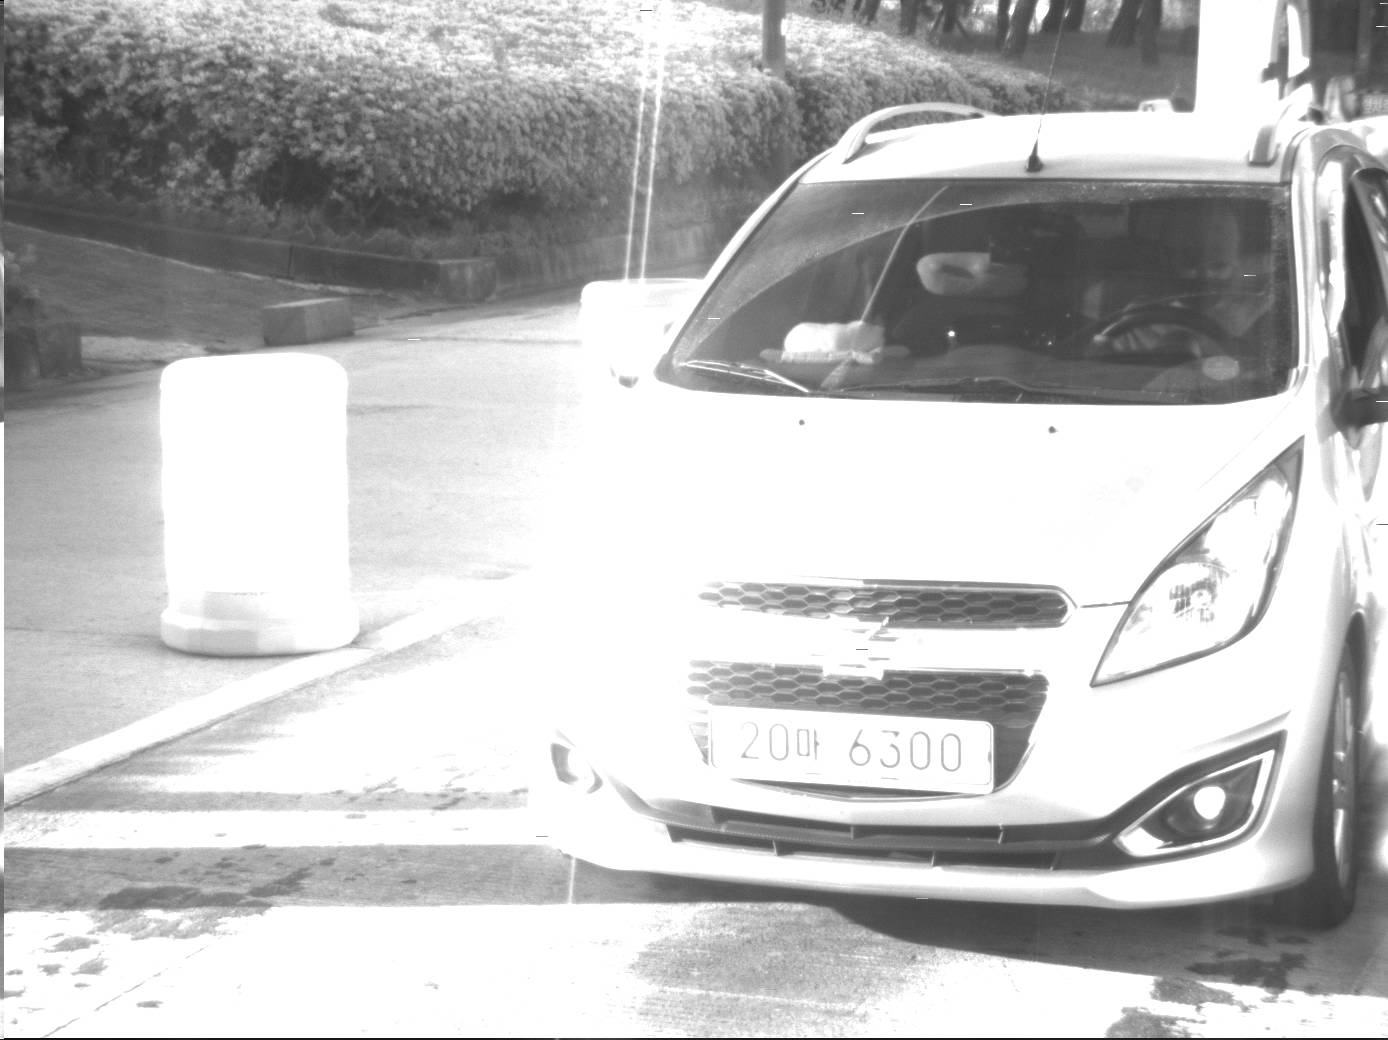car: (524, 95, 1388, 934)
plate: (705, 702, 999, 798)
